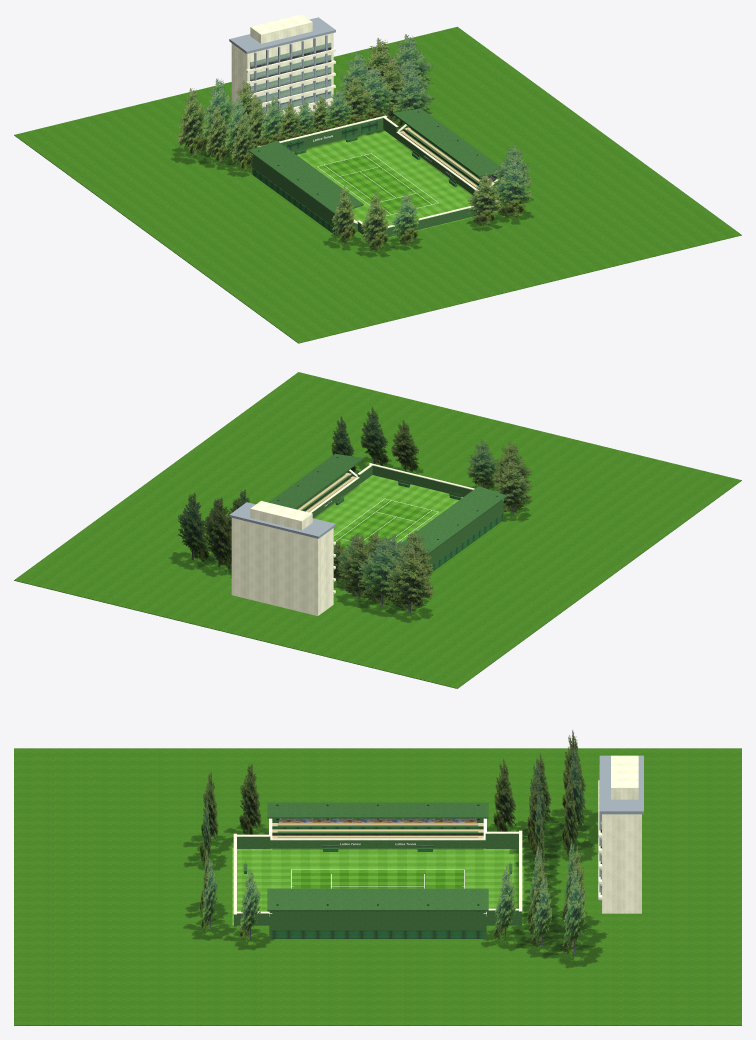
Rendered from stadium_court.glb.
3 renders of one model, top to bottom at view 1: azimuth 30°, elevation 25°; view 2: azimuth 150°, elevation 25°; view 3: azimuth 270°, elevation 25°, orthographic. The views are drawn at different scales.
Visible parts, largest first — view 1: StadiumCourt, StadiumTrees, StadiumShadows; view 2: StadiumCourt, StadiumTrees, StadiumShadows; view 3: StadiumCourt, StadiumTrees, StadiumShadows.
Part boxes in pixels (x1,y1,x2,y2): StadiumCourt: [14, 14, 741, 343]; StadiumTrees: [177, 34, 531, 251]; StadiumShadows: [171, 97, 533, 257]; StadiumCourt: [14, 372, 741, 688]; StadiumTrees: [178, 407, 531, 612]; StadiumShadows: [169, 457, 530, 622]; StadiumCourt: [14, 748, 741, 1025]; StadiumTrees: [200, 730, 585, 955]; StadiumShadows: [183, 808, 607, 967].
Size of the model in its own units: 90 by 17.55 by 100.
Materials: 33 (31 with a texture image).
